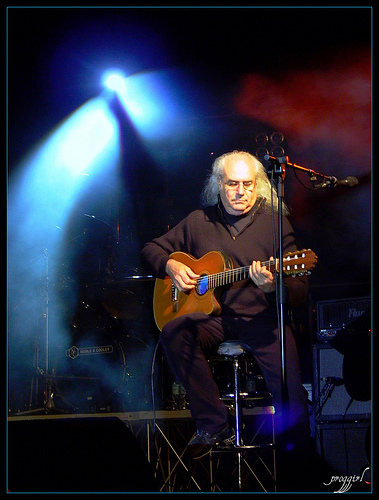guitar: (152, 249, 319, 332)
